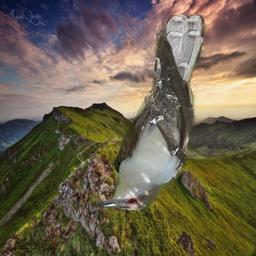Cuckoo: (95, 15, 207, 213)
